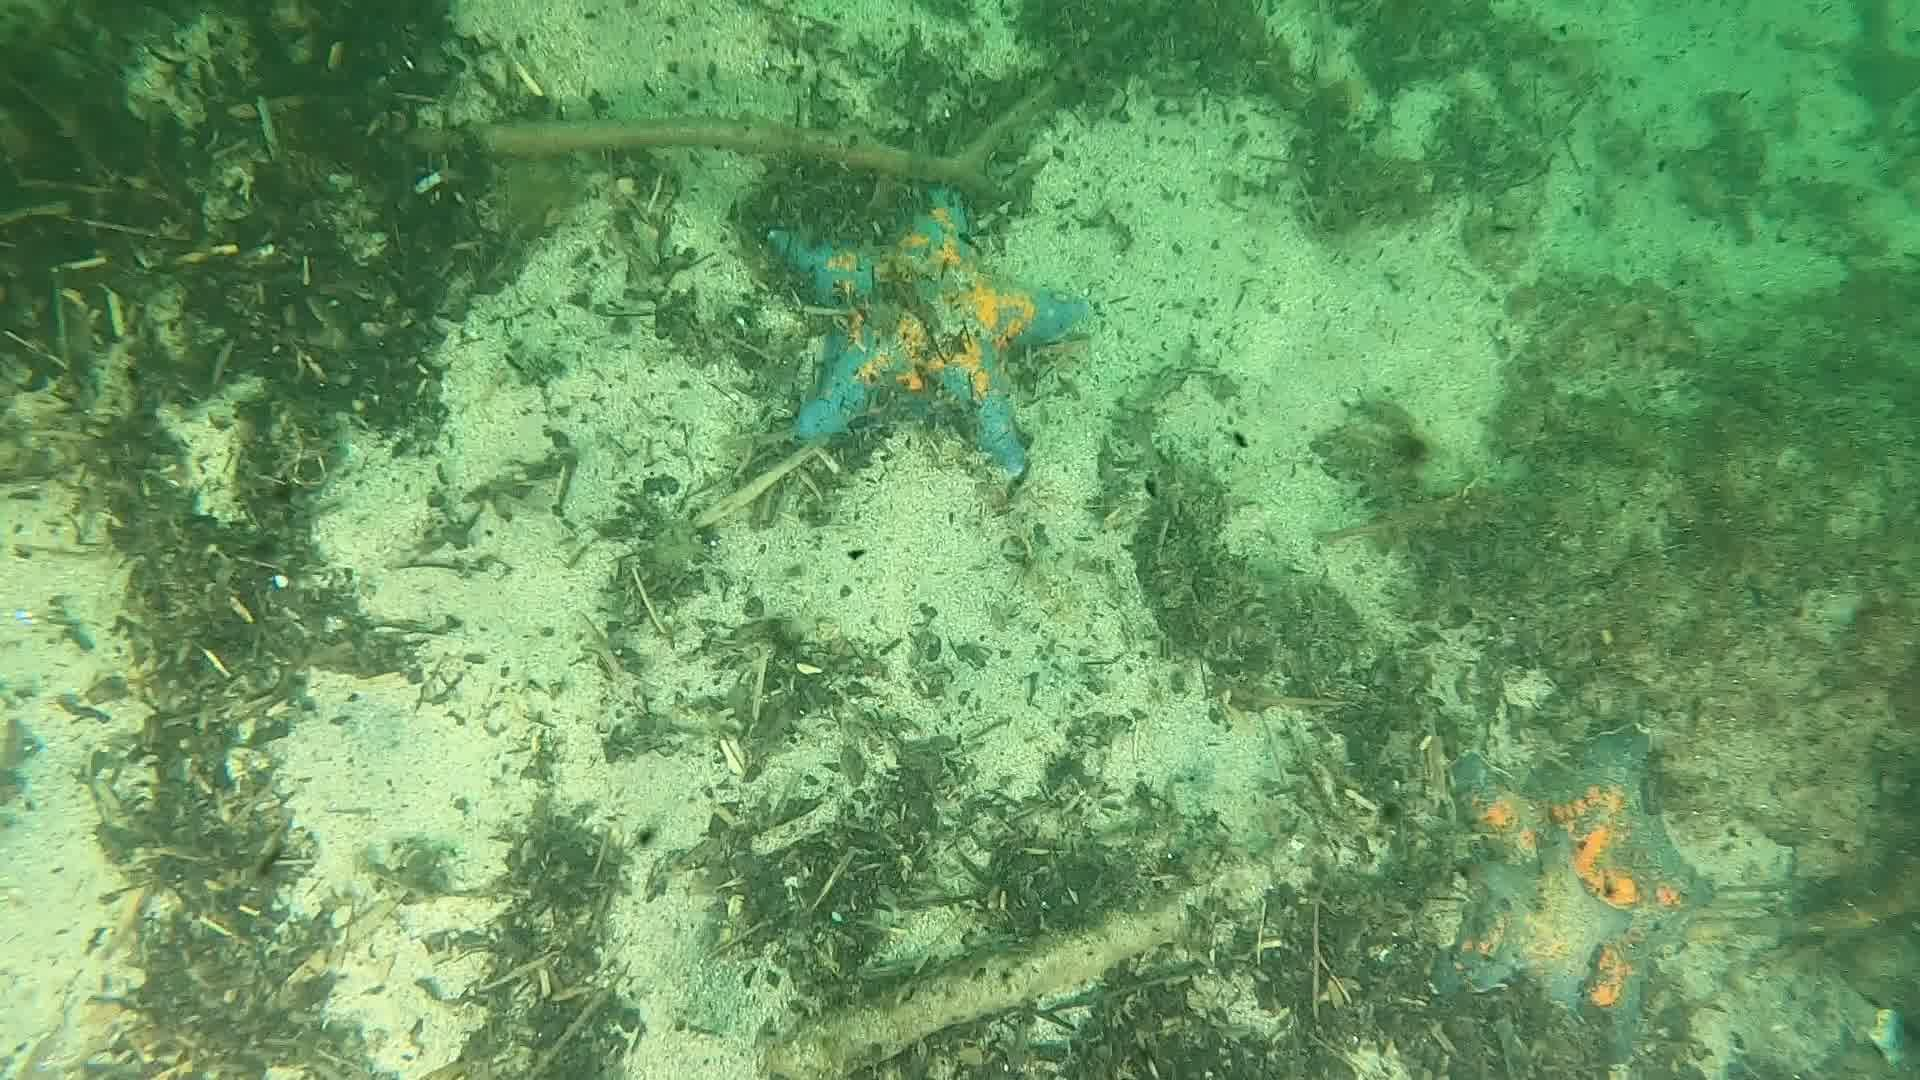wood: (400, 0, 1138, 200), (811, 848, 1276, 1080)
